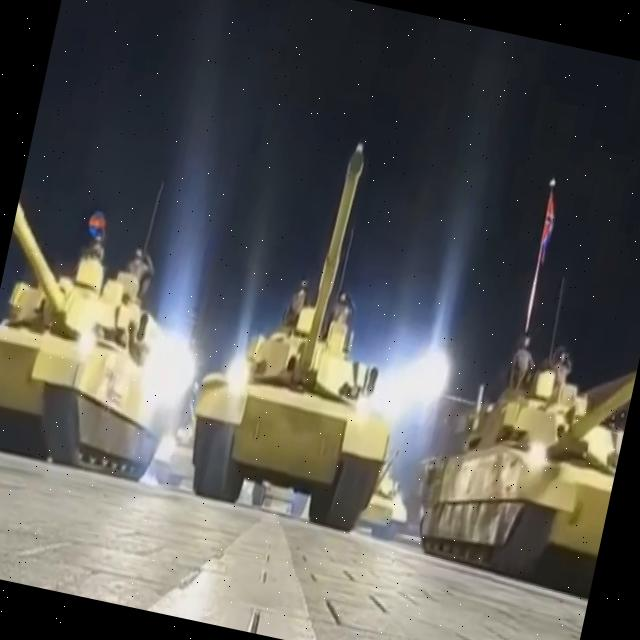north tank: (160, 95, 462, 564), (387, 149, 640, 619), (0, 150, 231, 514)
